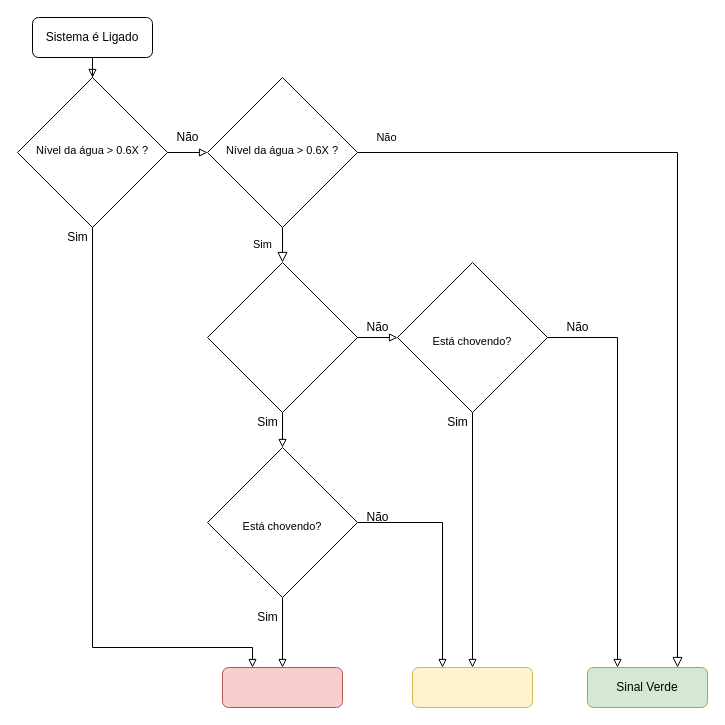
Some shapes in this 725 by 725 pixel diagram are drawn without their labels. The shapes that lost their labels are listed below. From the top down, each one's centre as x and y in pixels, then its label:
At point 282,337: "Nível da água > 0.8X cm?".
At point 282,687: "Sinal Vermelho + alerta sonoro".
At point 472,687: "Sinal Amarelo".
